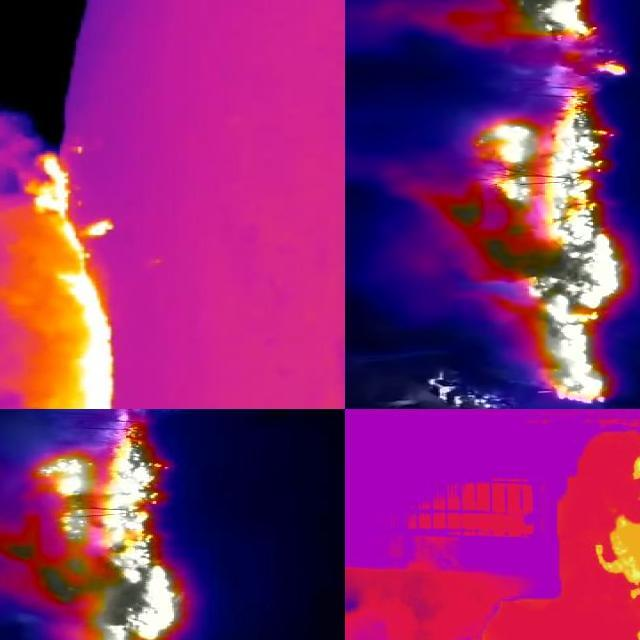fire: (443, 53, 629, 407), (15, 410, 183, 640), (1, 150, 121, 410), (483, 1, 601, 44), (587, 518, 640, 592)
